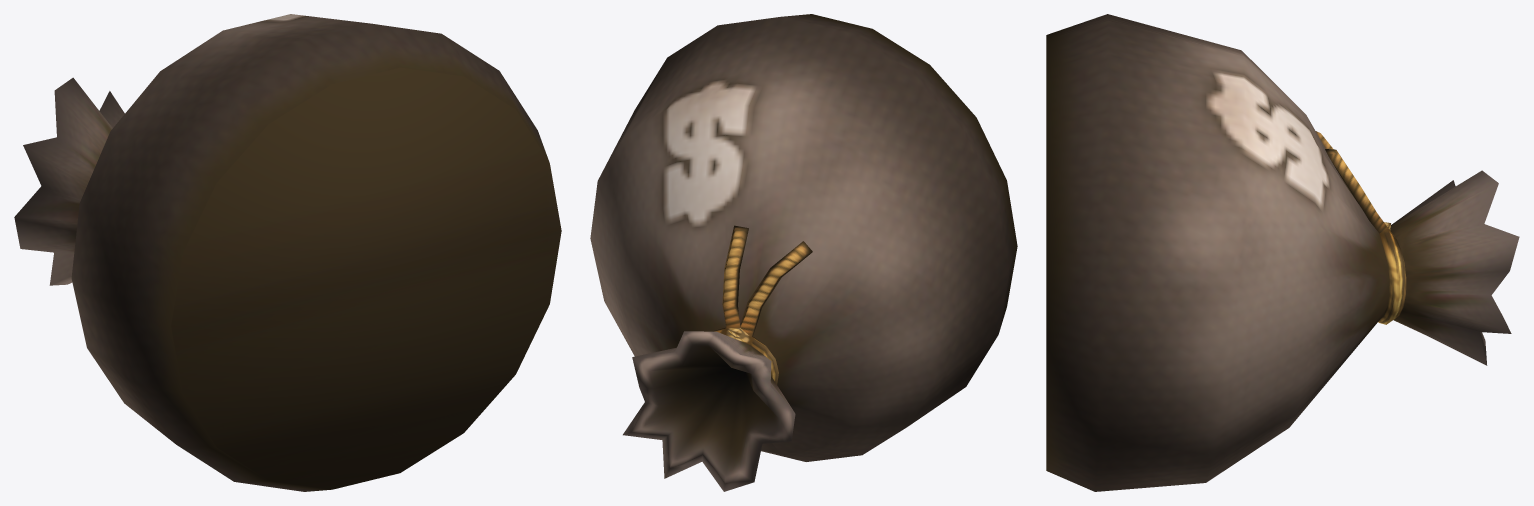
Rendered from bag.FBX.
3 renders of one model, left to right at view 1: azimuth 30°, elevation 25°; view 2: azimuth 150°, elevation 25°; view 3: azimuth 270°, elevation 25°, orthographic. The views are drawn at different scales.
Visible parts, largest first — view 1: bag; view 2: bag; view 3: bag.
Part boxes in pixels (x1=…): bag: x1=14, y1=14, x2=561, y2=491; bag: x1=590, y1=14, x2=1017, y2=491; bag: x1=1046, y1=14, x2=1519, y2=491.
Size of the model in its own units: 0.4493 by 0.4458 by 0.4457.
